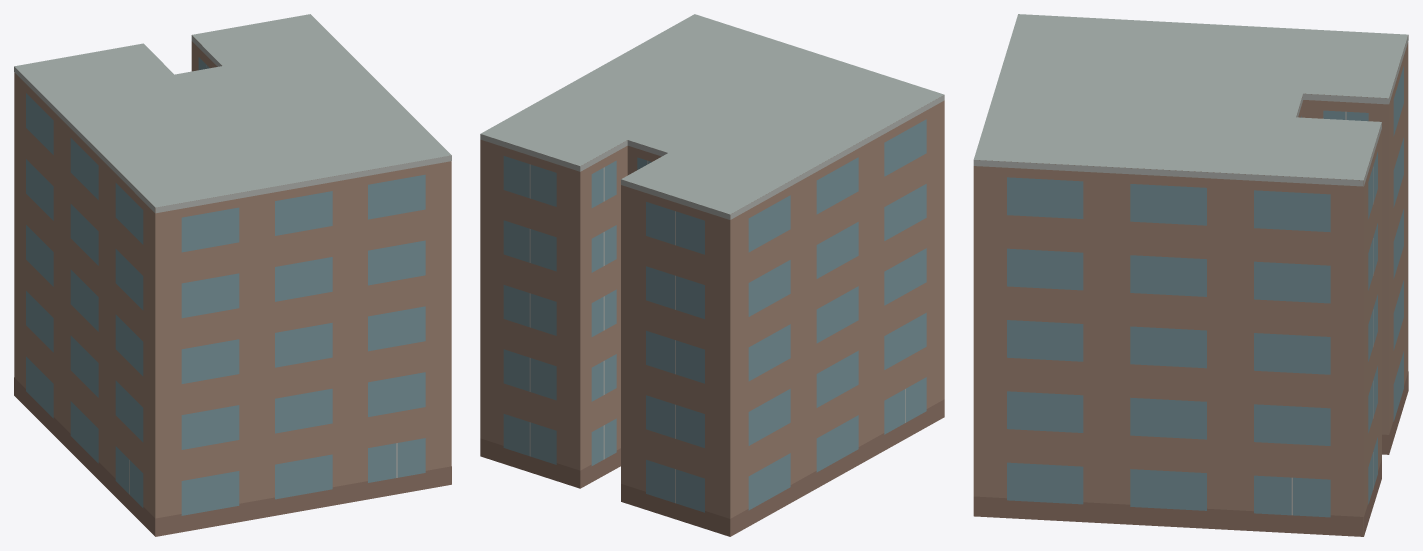
File: survey-upis-32662990.glb
3 renders of one model, left to right at view 1: azimuth 30°, elevation 25°; view 2: azimuth 150°, elevation 25°; view 3: azimuth 270°, elevation 25°, orthographic. The views are drawn at different scales.
Parts seen in each view (by area): view 1: survey-upis-32662990.tmp; view 2: survey-upis-32662990.tmp; view 3: survey-upis-32662990.tmp.
Part boxes in pixels (bbox=[...]): survey-upis-32662990.tmp: bbox=[14, 14, 451, 536]; survey-upis-32662990.tmp: bbox=[480, 14, 944, 536]; survey-upis-32662990.tmp: bbox=[973, 14, 1408, 536].
Bounding box in the file's own units: 14.01 × 14 × 15.48.
